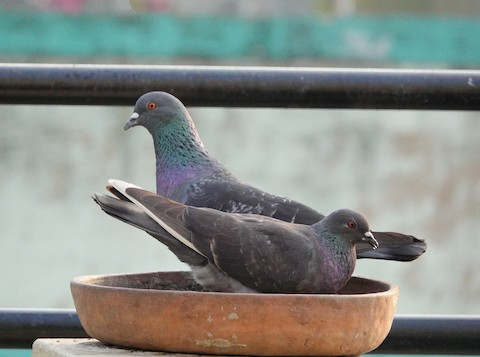pigeon: (123, 89, 433, 268), (91, 176, 382, 305)
